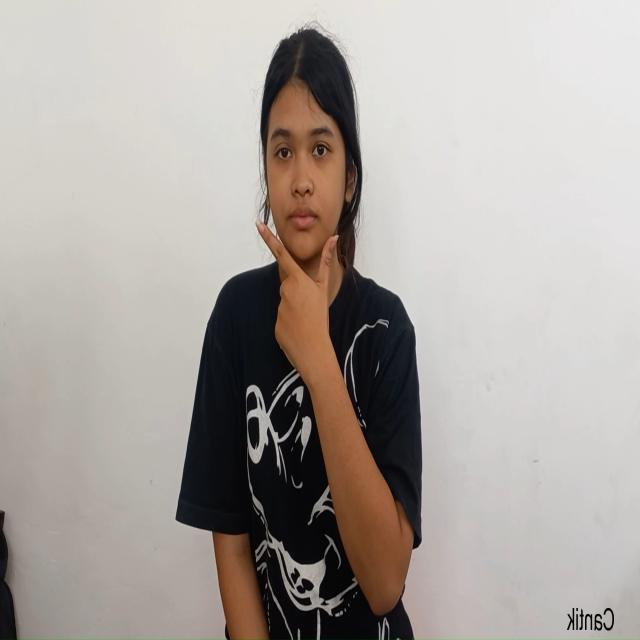Cantik -BISINDO-: (254, 25, 364, 393)
